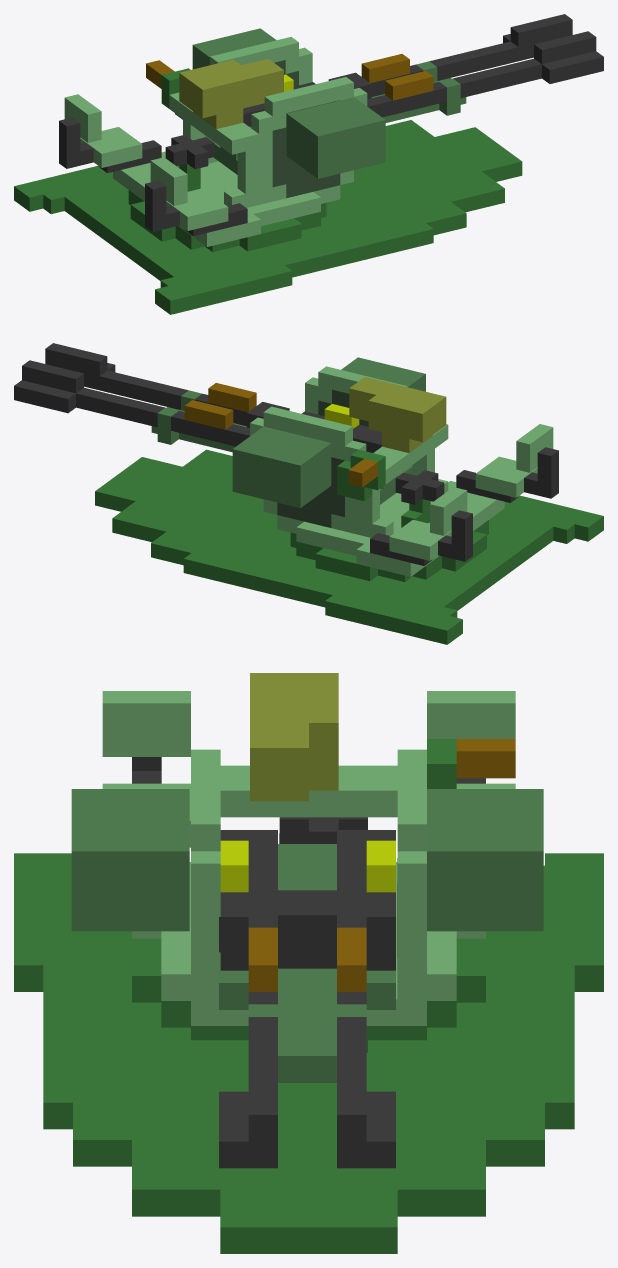
3 renders of one model, top to bottom at view 1: azimuth 30°, elevation 25°; view 2: azimuth 150°, elevation 25°; view 3: azimuth 270°, elevation 25°, orthographic. The views are drawn at different scales.
Parts seen in each view (by area): view 1: base, body, gun; view 2: base, body, gun; view 3: base, gun, body.
Boxes of the visible parts, box(x1,y1,x2,y2) form: base: box(14, 120, 522, 314); body: box(59, 37, 367, 246); gun: box(192, 14, 603, 178); base: box(95, 449, 603, 644); body: box(250, 366, 558, 576); gun: box(14, 343, 425, 508); base: box(14, 853, 603, 1253); gun: box(71, 789, 543, 1168); body: box(102, 673, 515, 1025).
Bounding box in the file's own units: 36 × 11 × 20.
3 materials, 3 textured.
